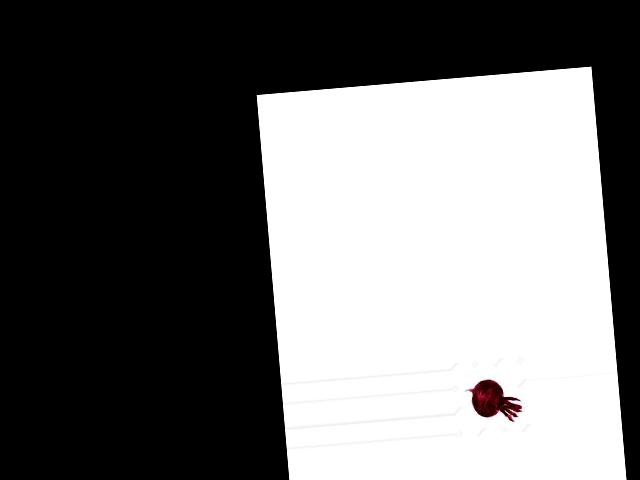beet: (463, 376, 522, 425)
